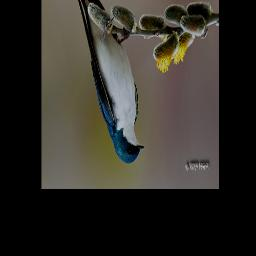Swallow: (72, 0, 145, 164)
